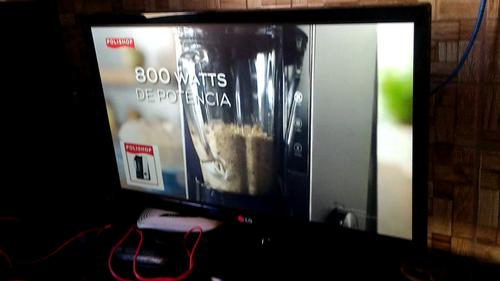Polishop #1: (119, 139, 165, 191)
